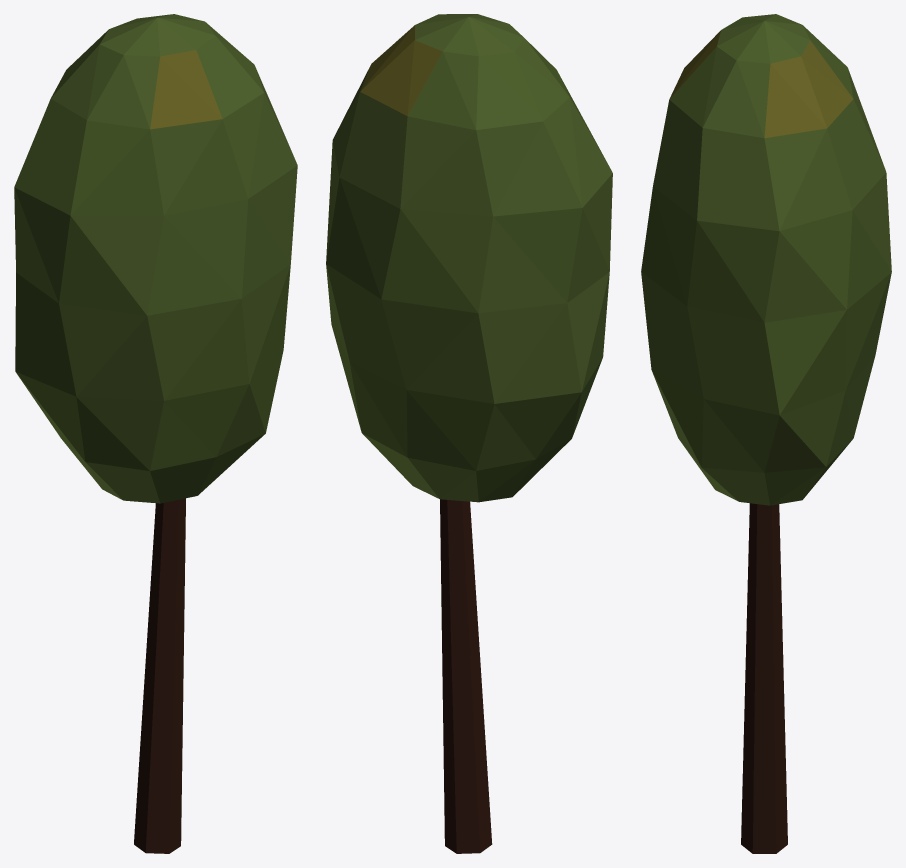
The model's file is Tree_Sapling_01.fbx.
3 views of the same model, side by side, from view 1: azimuth 30°, elevation 25°; view 2: azimuth 150°, elevation 25°; view 3: azimuth 270°, elevation 25° (orthographic).
Visible parts, largest first — view 1: Tree_Sapling_01_Foliage, Tree_Sapling_01_Trunk; view 2: Tree_Sapling_01_Foliage, Tree_Sapling_01_Trunk; view 3: Tree_Sapling_01_Foliage, Tree_Sapling_01_Trunk.
Boxes of the visible parts, box(x1,y1,x2,y2) form: Tree_Sapling_01_Foliage: box(14, 14, 297, 503); Tree_Sapling_01_Trunk: box(134, 498, 185, 853); Tree_Sapling_01_Foliage: box(326, 14, 612, 502); Tree_Sapling_01_Trunk: box(440, 499, 492, 853); Tree_Sapling_01_Foliage: box(641, 14, 891, 505); Tree_Sapling_01_Trunk: box(741, 503, 787, 853).
Size of the model in its own units: 1.01 by 3.09 by 0.8527.
1 material, 1 textured.
